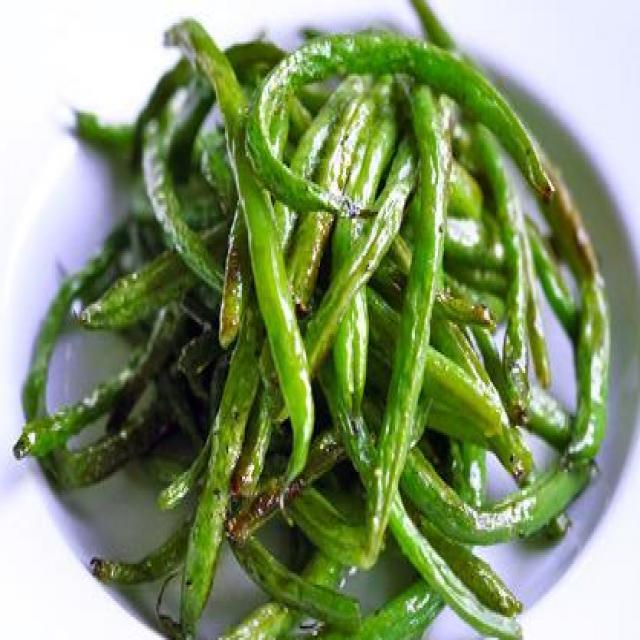Beans: (15, 0, 639, 639)
